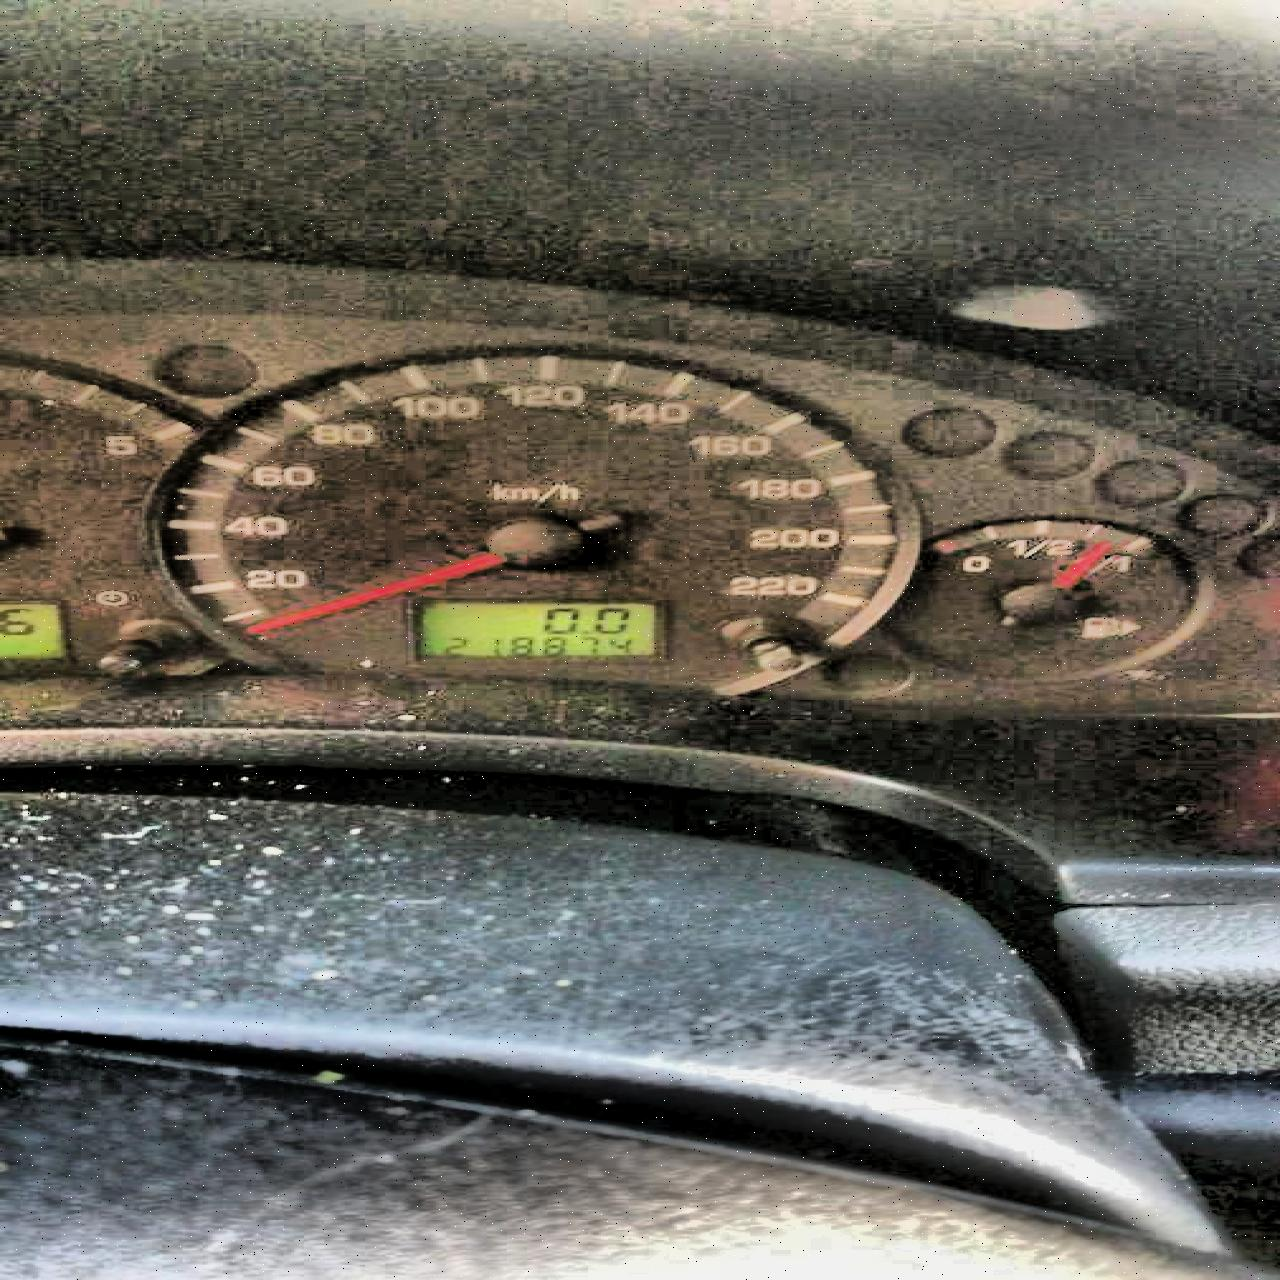-: (576, 627, 591, 635)
0: (588, 605, 628, 634), (538, 605, 576, 635)
1: (482, 635, 502, 655)
2: (438, 634, 469, 656)
4: (602, 635, 631, 655)
7: (576, 634, 599, 655)
8: (504, 634, 535, 655), (538, 635, 565, 655)
odometer: (403, 597, 669, 662)
